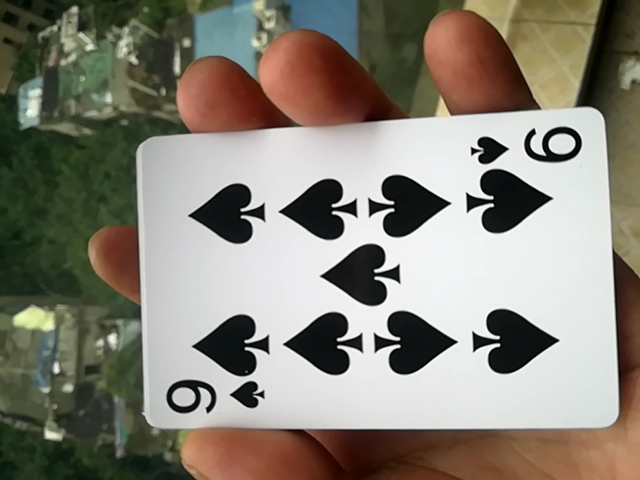ht 9: (125, 116, 611, 442)
